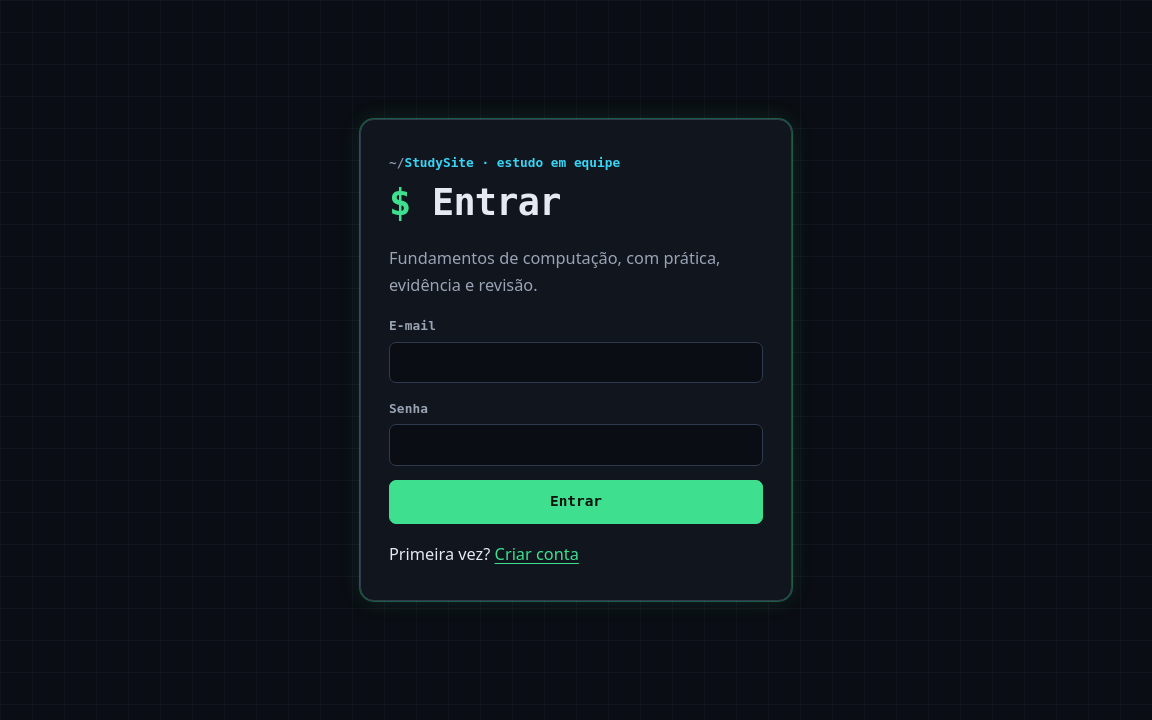
it: autenticação › mostra a mensagem do servidor quando a senha está errada
Type "lia@example.test" into the field labelled "E-mail" at (576, 362), box [389,342,763,383]
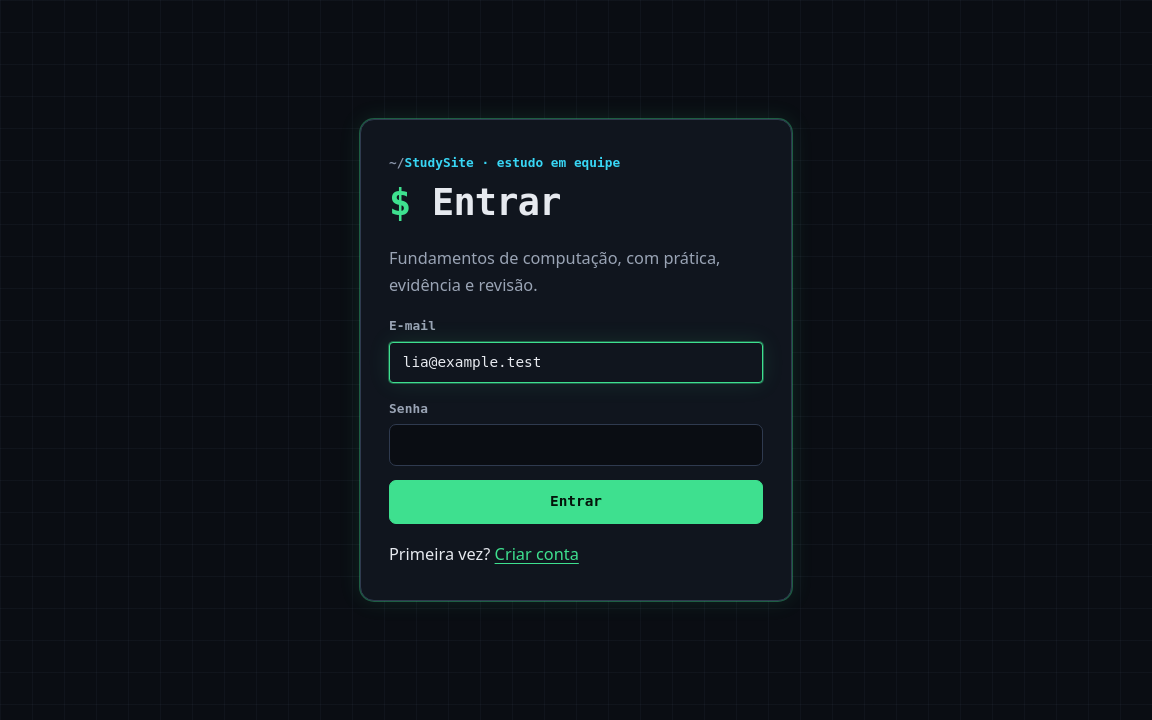
Type "errada-errada" into the password field labelled "Senha" at (576, 445), box [389,424,763,466]
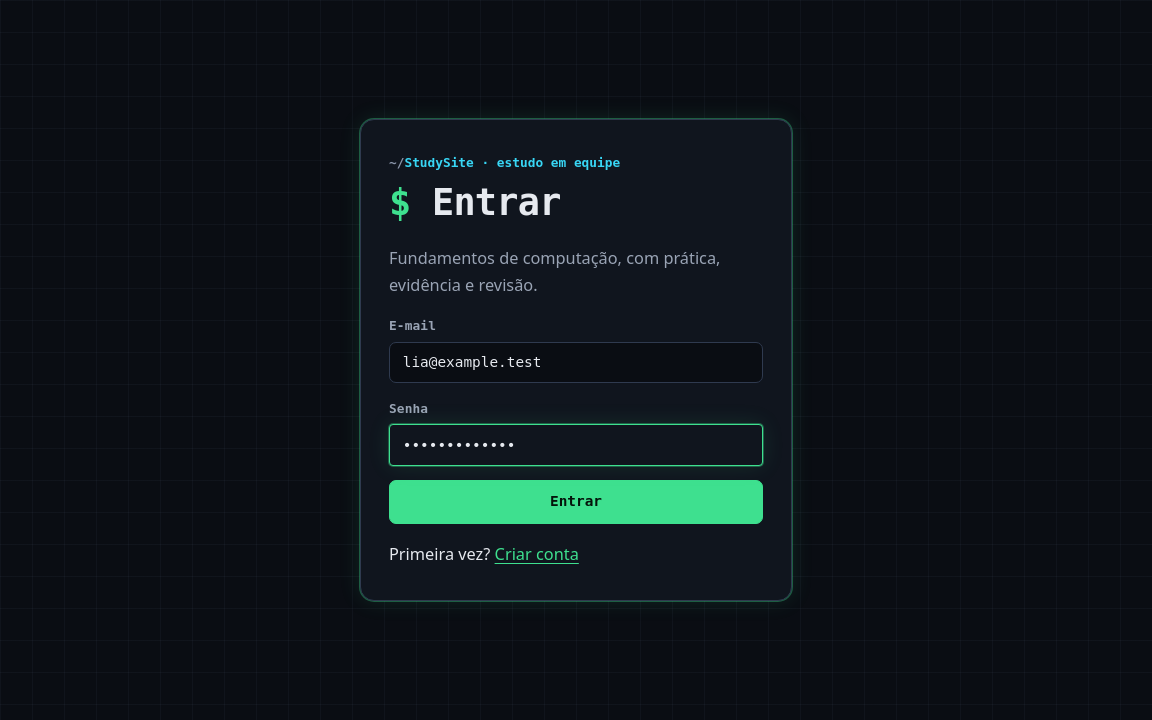
Click the button "Entrar" at (576, 502), box [389,480,763,524]
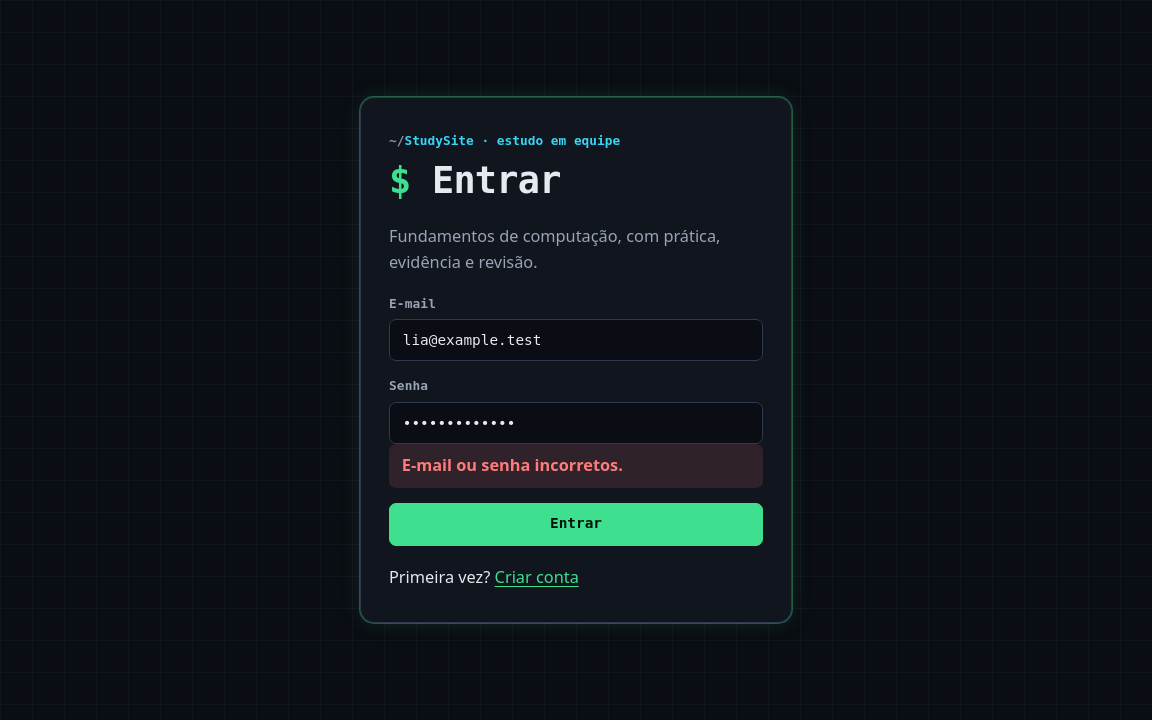
expect the message reads "E-mail ou senha incorretos.": met, box [402,454,623,476]
